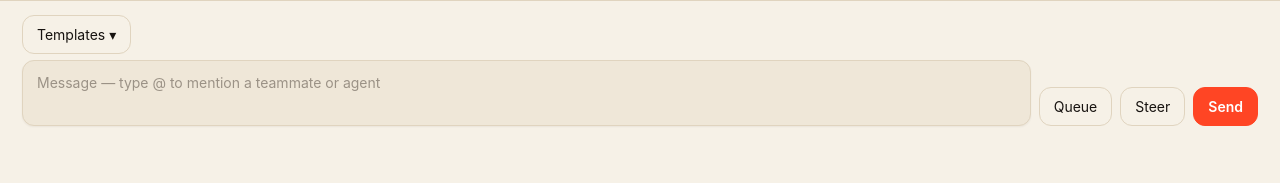
Test: Composer › confirms a steer with a status message instead of doing nothing
Type "focus on the pricing page" into the text box.
click(526, 93); type("focus on the pricing page")  # box [22, 60, 1031, 126]
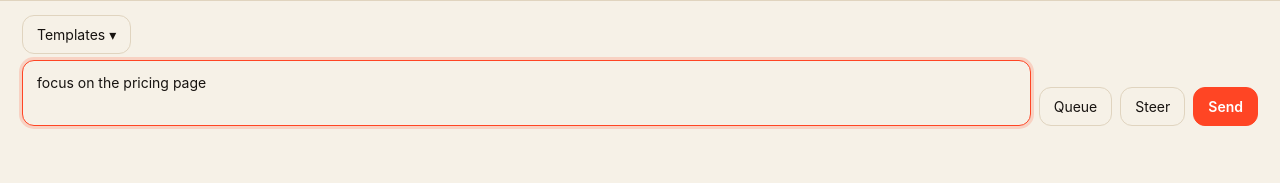
Click the button with aria-label "steer the running agent".
click(1153, 106)  # box [1120, 87, 1185, 126]
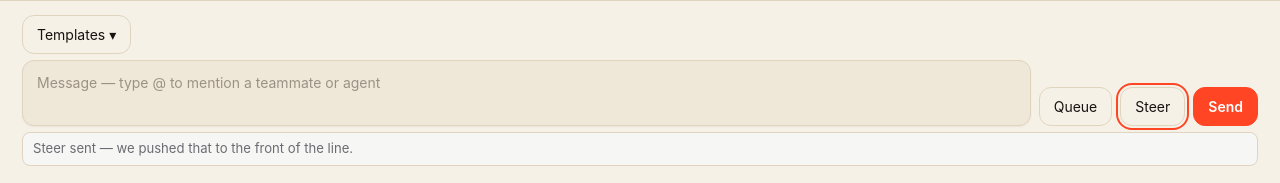
Expected: the message shows "Steer sent", [33, 140, 353, 156]
Expected: the text box is empty, [22, 60, 1031, 126]
